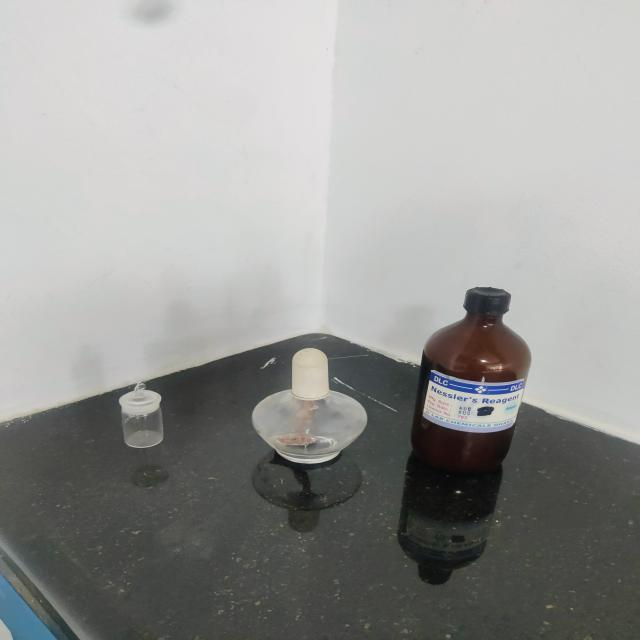Nessler_Reagent_Bottle: (393, 256, 572, 492)
Spirit_Lamp: (231, 320, 374, 488)
Weighing_Bottle: (99, 359, 194, 472)
